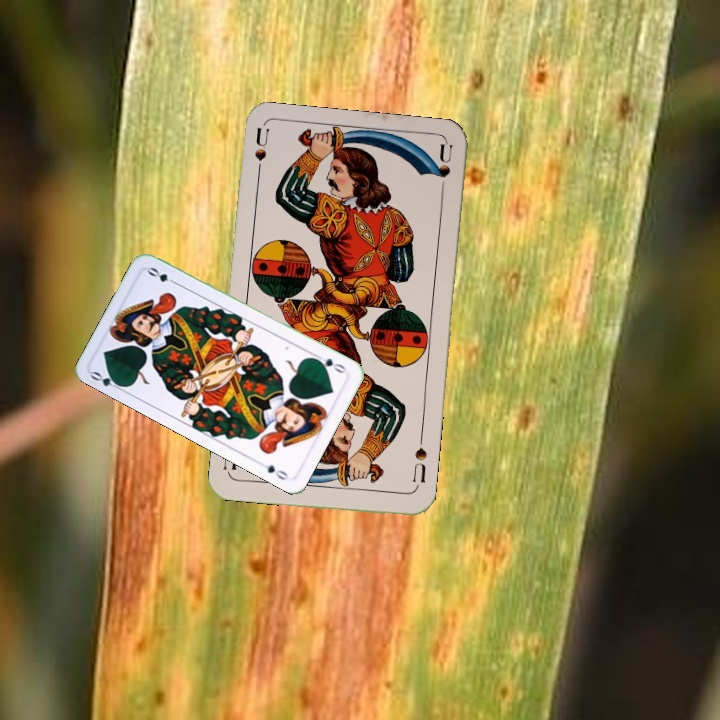GO: (87, 367, 127, 394), (310, 354, 348, 376)
SU: (408, 433, 429, 492), (251, 126, 271, 185)
